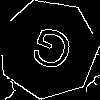G: (23, 24, 77, 82)
